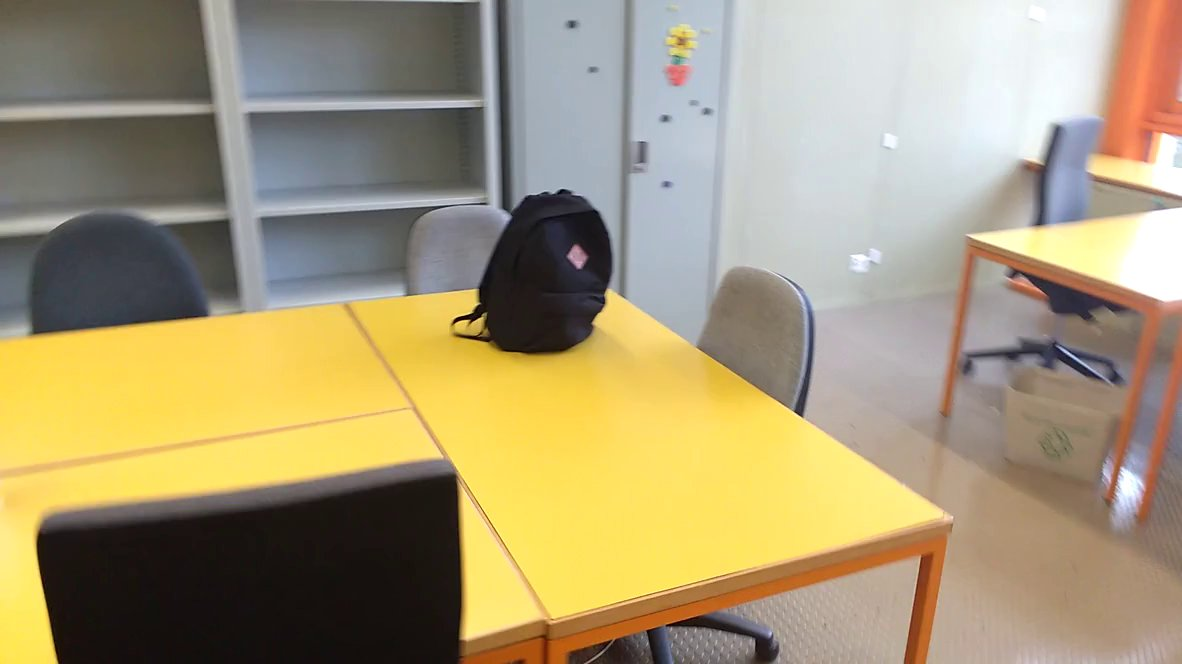bag: (447, 181, 617, 362)
box: (994, 358, 1145, 490)
chair: (16, 458, 488, 664), (963, 105, 1158, 413), (14, 203, 235, 349), (682, 263, 862, 428), (400, 200, 570, 315)
